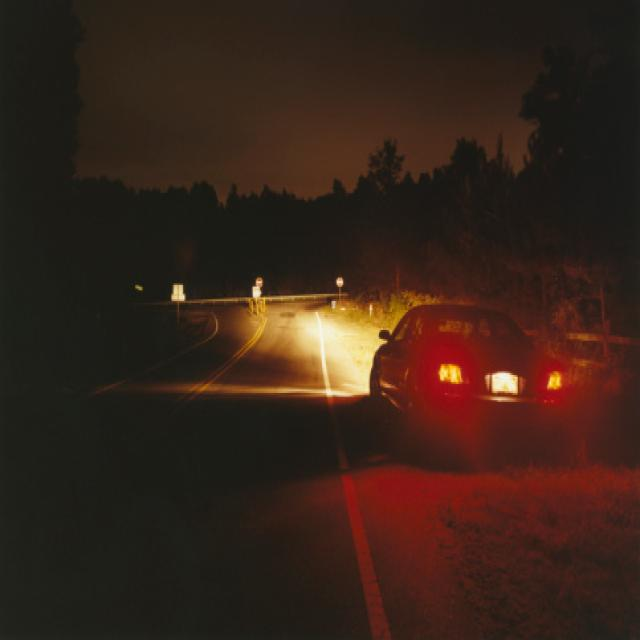Car: (340, 298, 570, 470)
